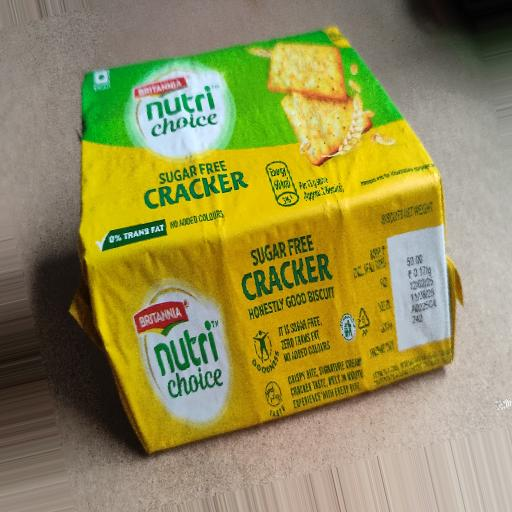Britannia Nutri-choice: (54, 3, 476, 470)
